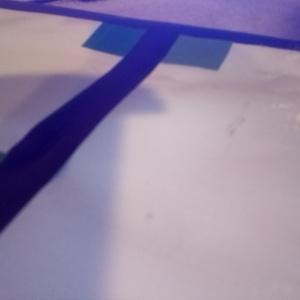bottom_left: (82, 22, 166, 57)
bottom_right: (147, 30, 233, 70)
